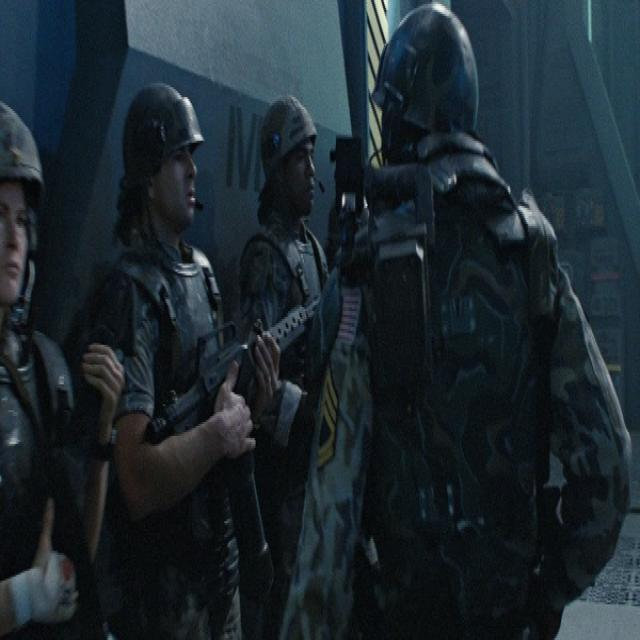rifle: (148, 296, 323, 452)
